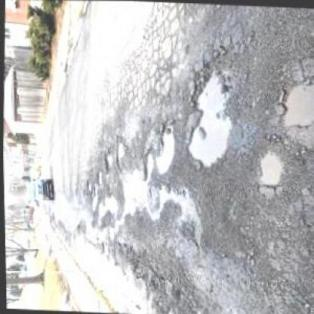Hueco: (183, 68, 234, 169), (274, 78, 313, 133), (152, 122, 174, 174), (254, 149, 280, 187), (112, 138, 124, 165), (141, 152, 151, 179), (100, 151, 112, 170), (94, 170, 101, 186)
